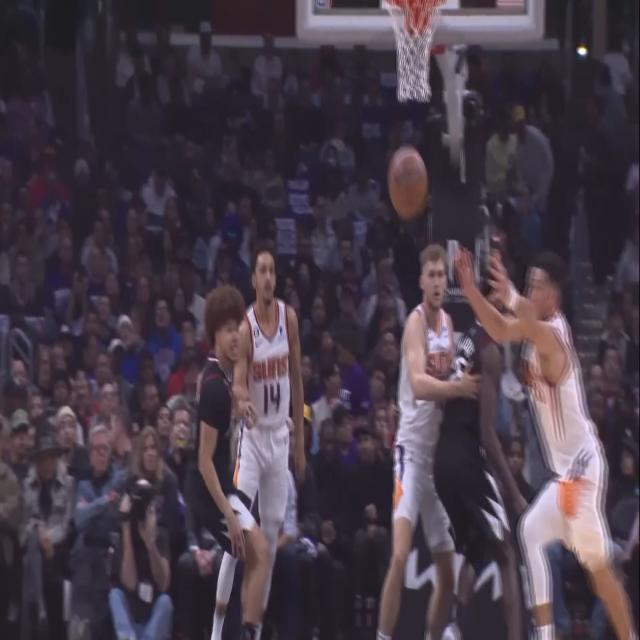Ball: (386, 146, 429, 219)
Hoop: (381, 0, 447, 104)
Player: (452, 247, 634, 640), (376, 243, 482, 640), (210, 244, 307, 640), (430, 258, 530, 640), (188, 283, 272, 640)
